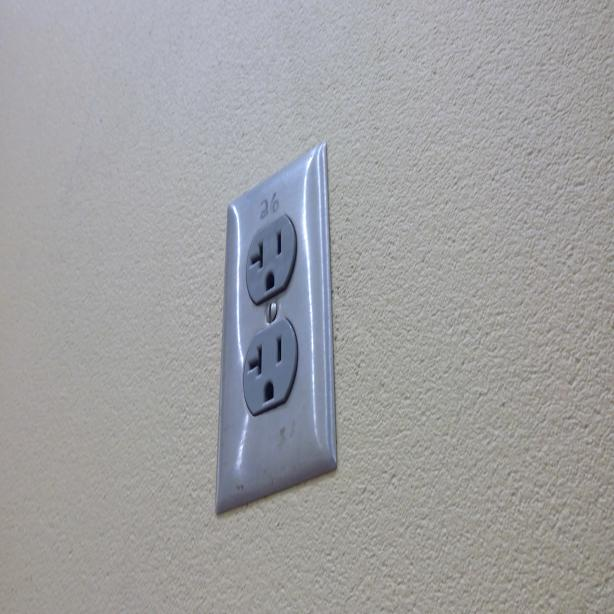typeb: (245, 324, 297, 407), (246, 224, 295, 296)
